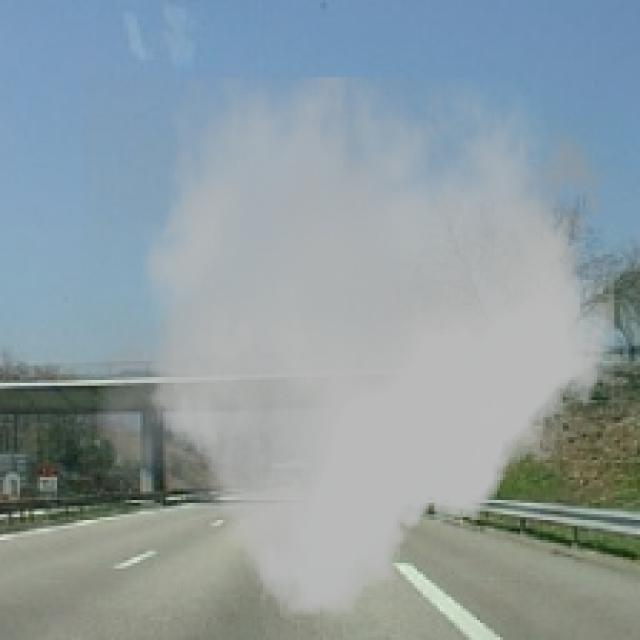Smoke: (83, 77, 623, 617)
